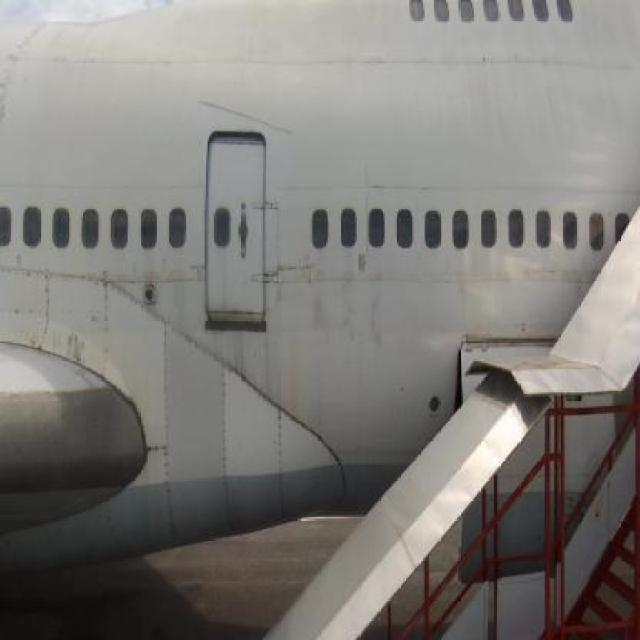Scartch: (308, 267, 398, 361), (0, 28, 48, 129), (60, 328, 88, 380)
